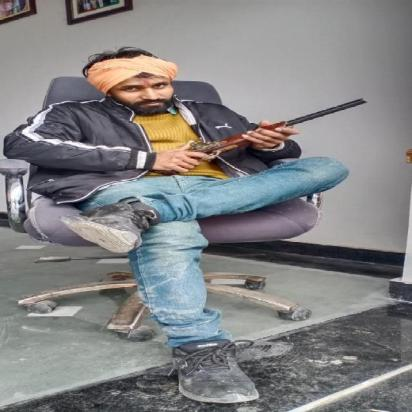Gun: (146, 96, 372, 178)
